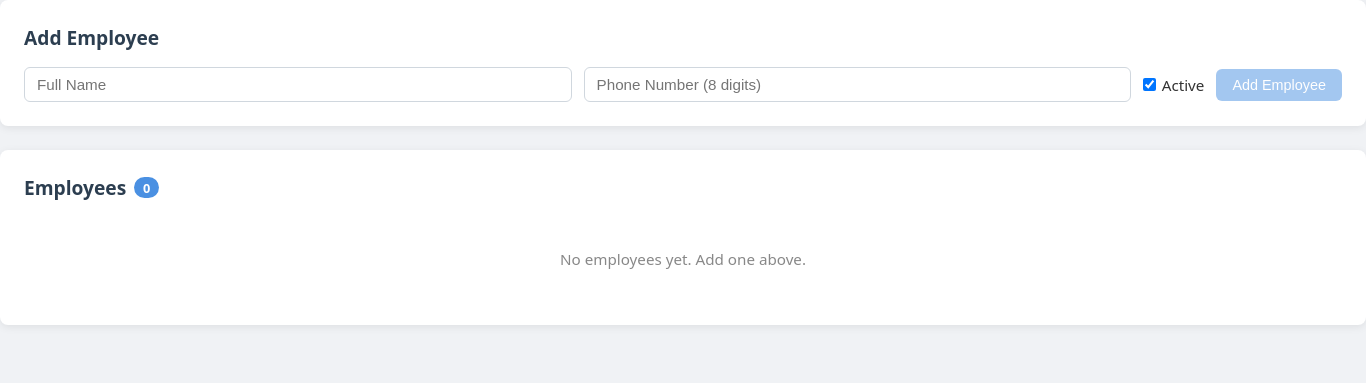
Test: addEmployee › shows formError when POST fails
Type "Name Only" into the field with placeholder "Full Name" at (298, 84), box [24,67,572,102]
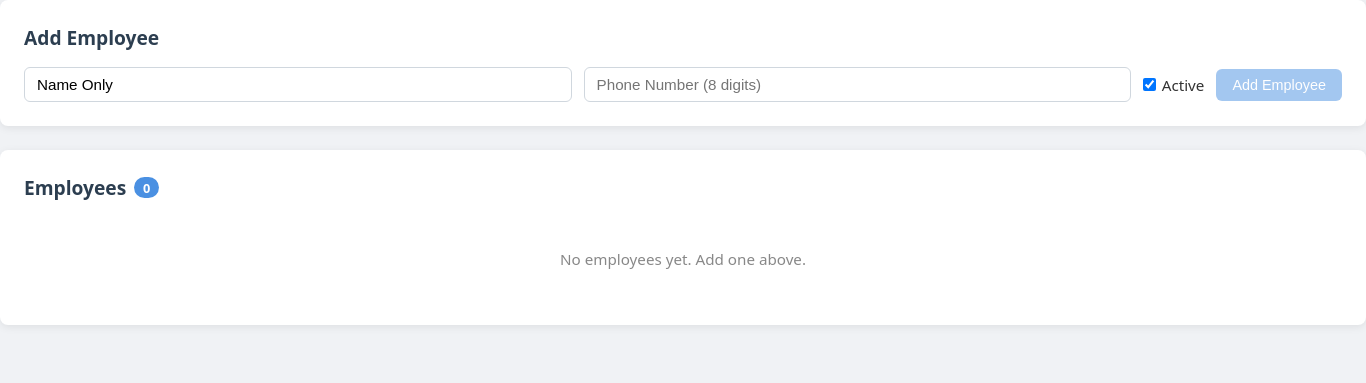
Type "12345678" into the field with placeholder "Phone Number (8 digits)" at (857, 84), box [584,67,1131,102]
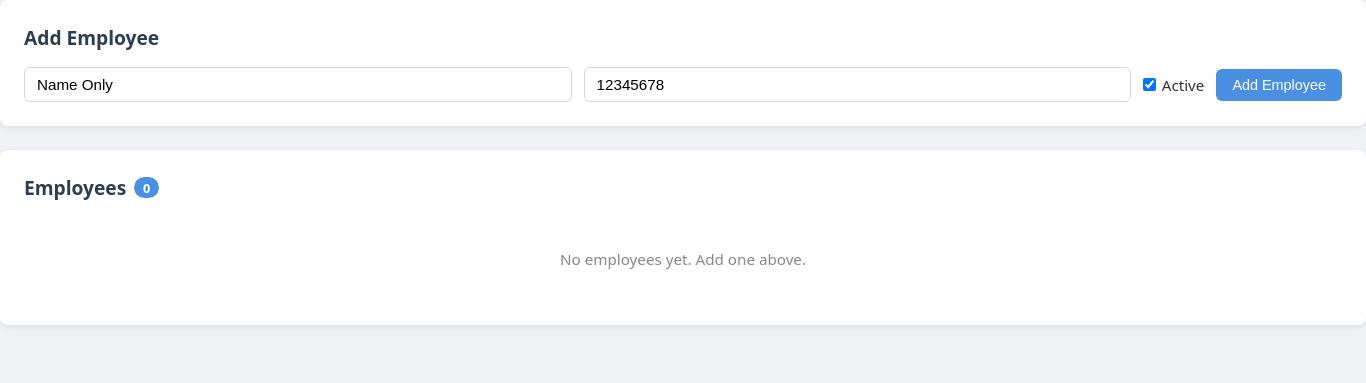
Click the button "Add Employee" at (1279, 84), box [1216,68,1342,100]
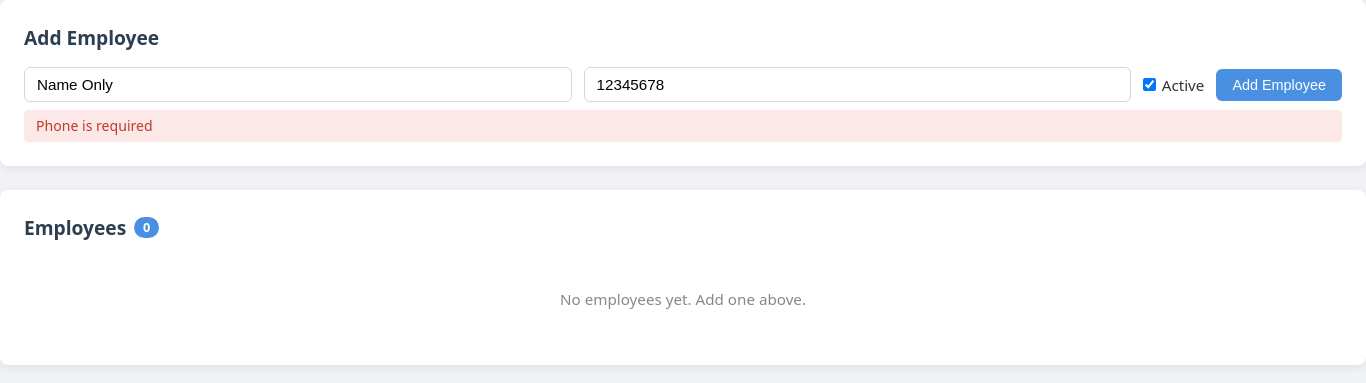
Now the text "Phone is required" is shown, box [24,110,1342,142]
